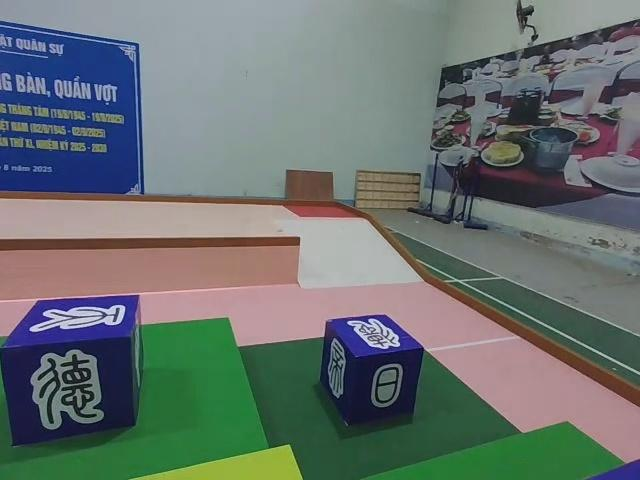R2 Fake Blue: (3, 296, 143, 452), (320, 316, 423, 430)
